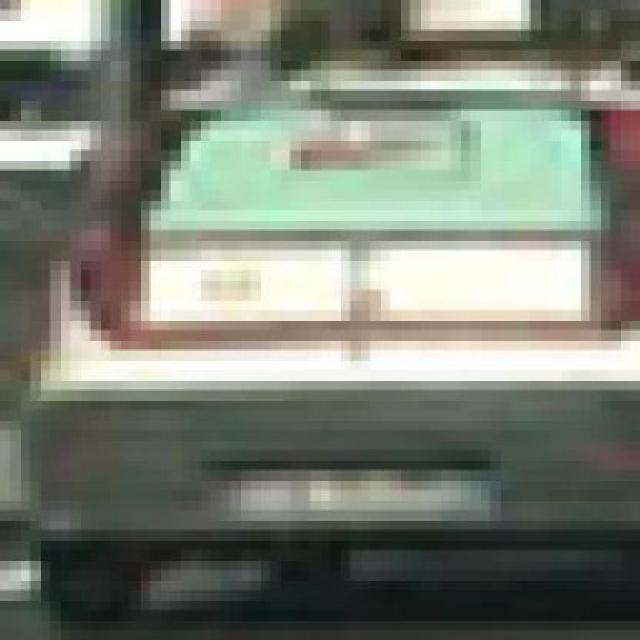vehicle: (8, 25, 640, 632)
